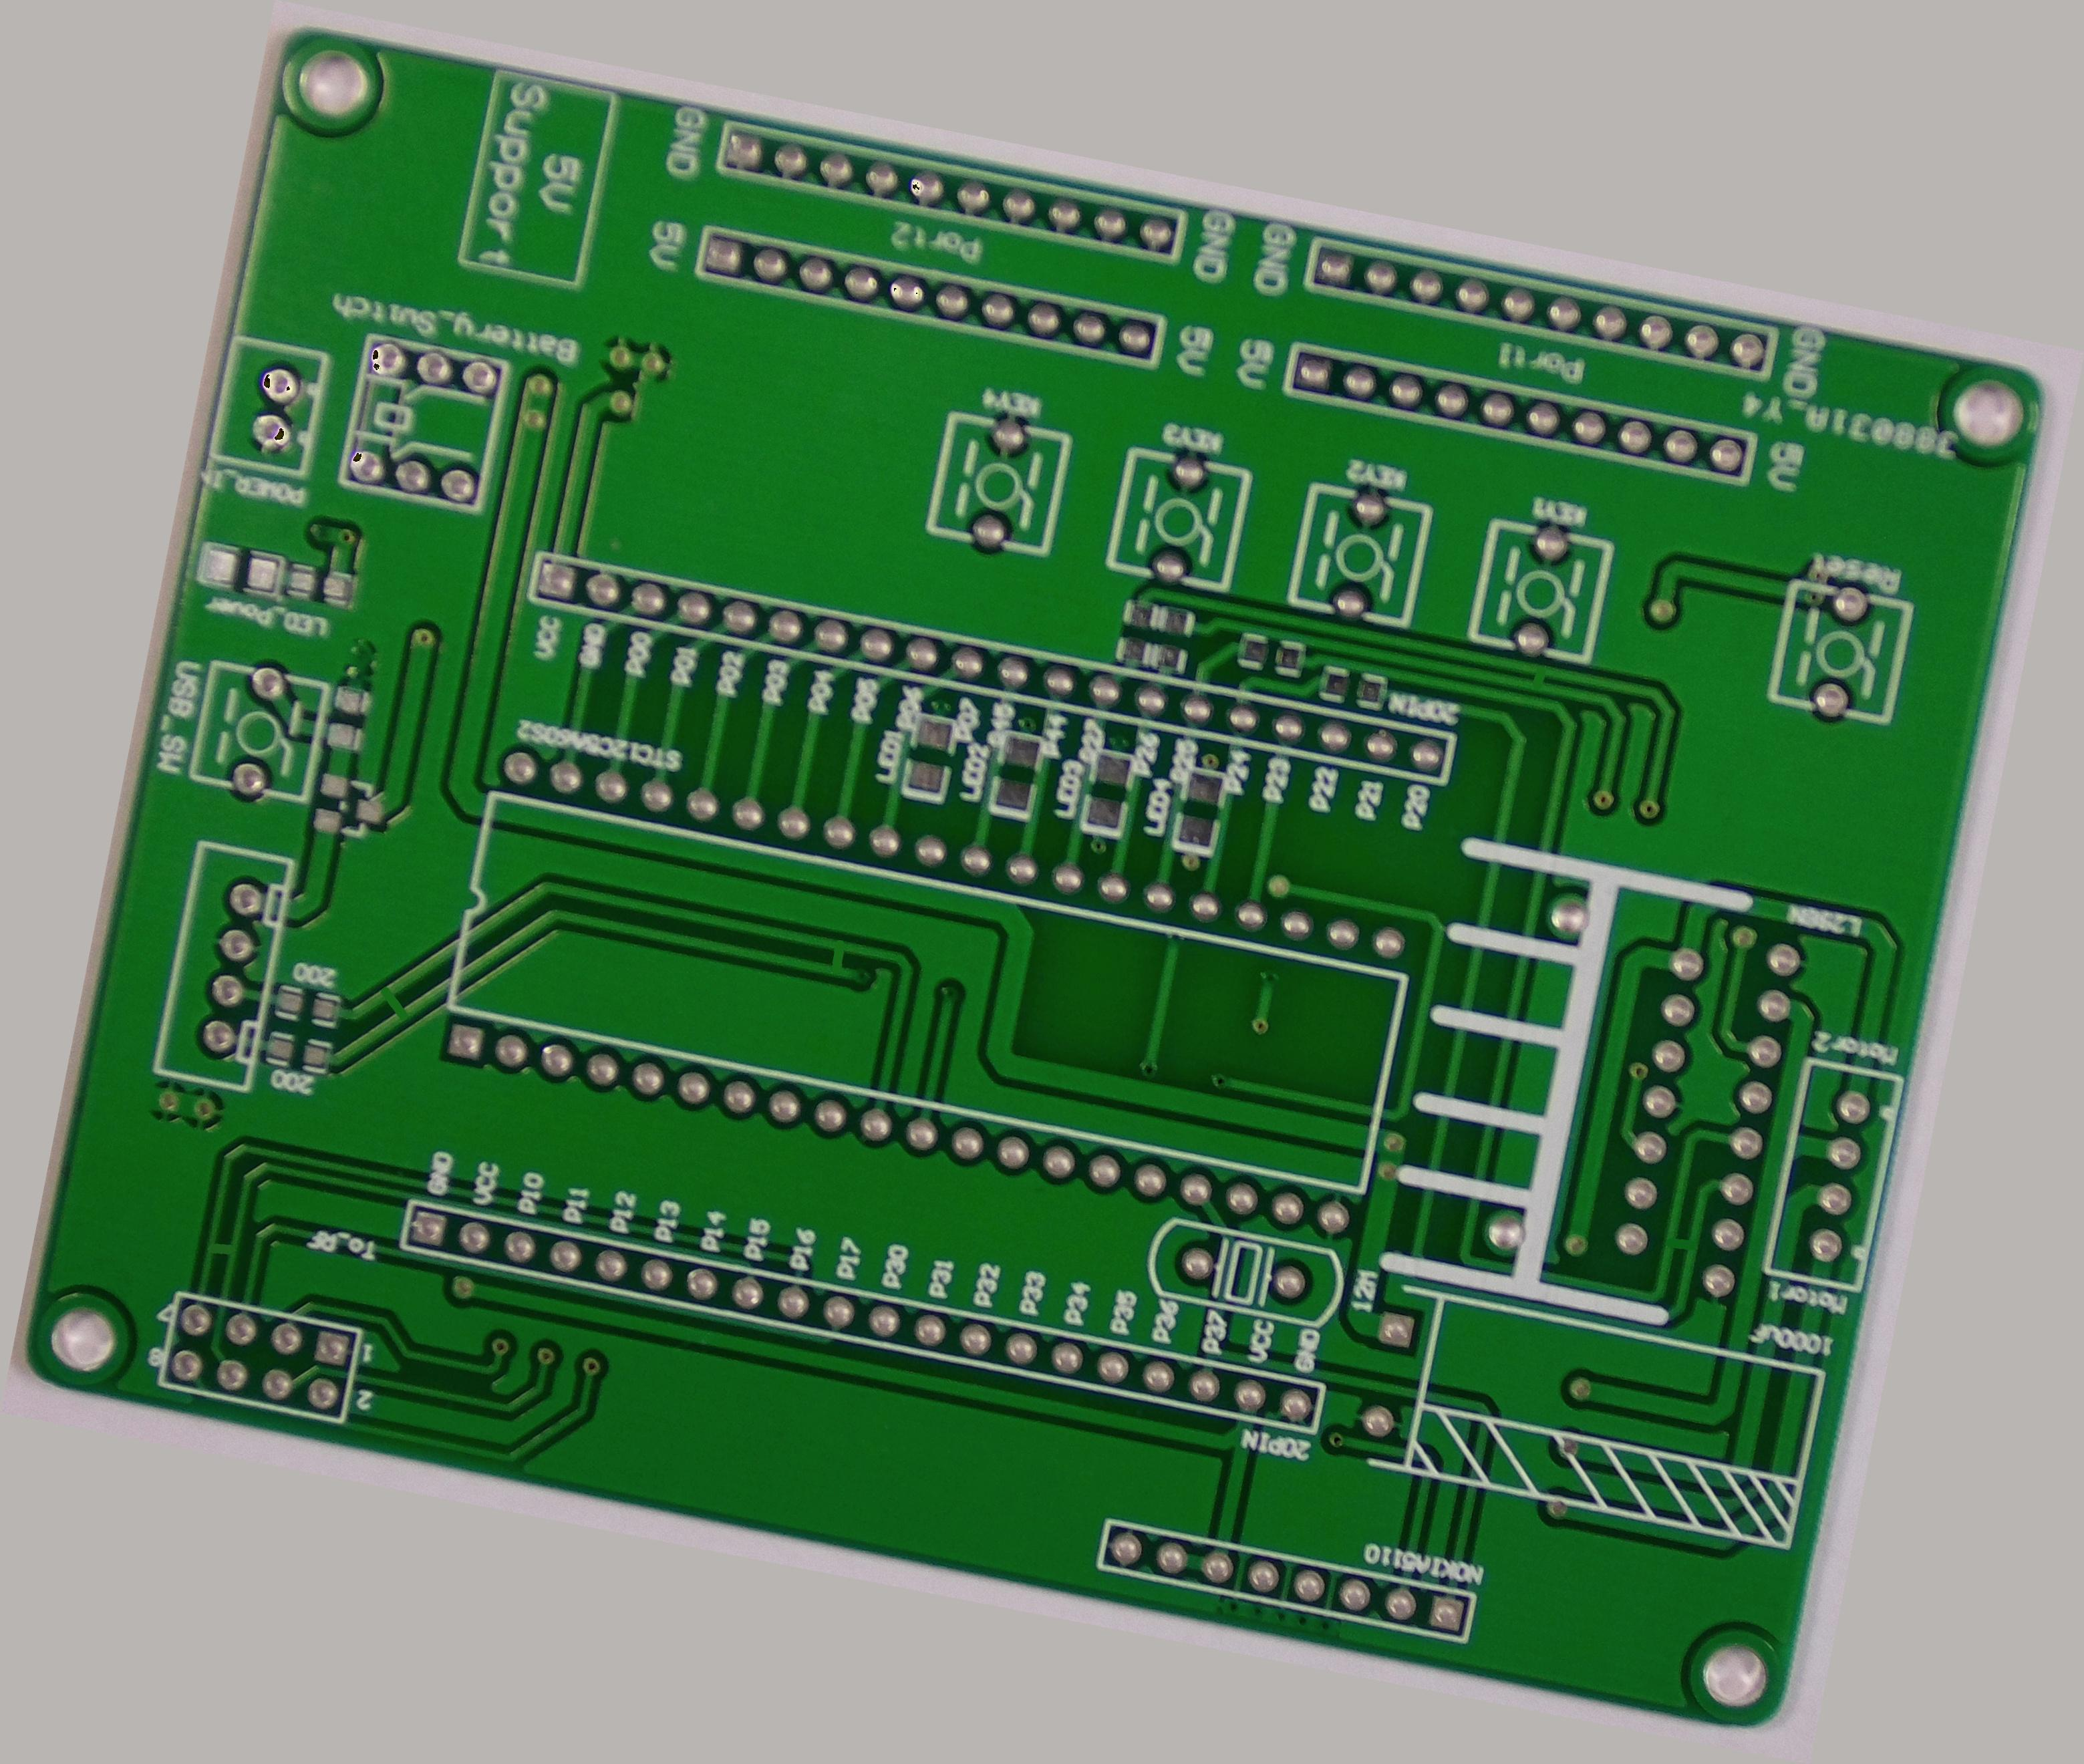short: (803, 927, 866, 992), (366, 976, 423, 1031), (194, 1227, 248, 1272), (1659, 1221, 1703, 1269), (1512, 656, 1561, 696)
